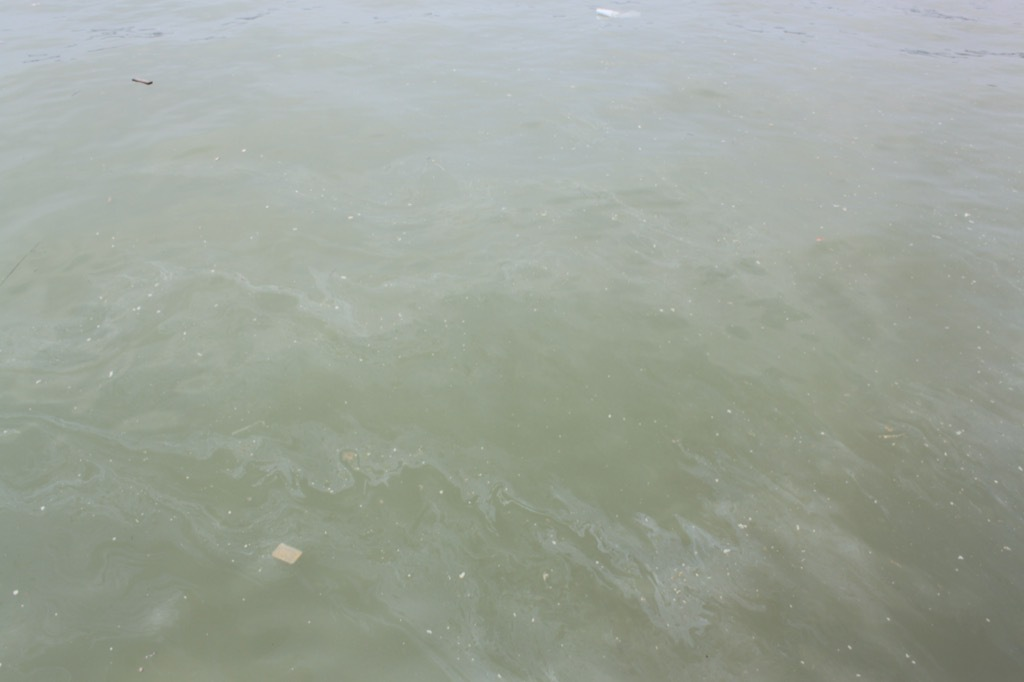organic: (122, 68, 160, 93)
plastic: (579, 1, 654, 35), (264, 534, 318, 577)
